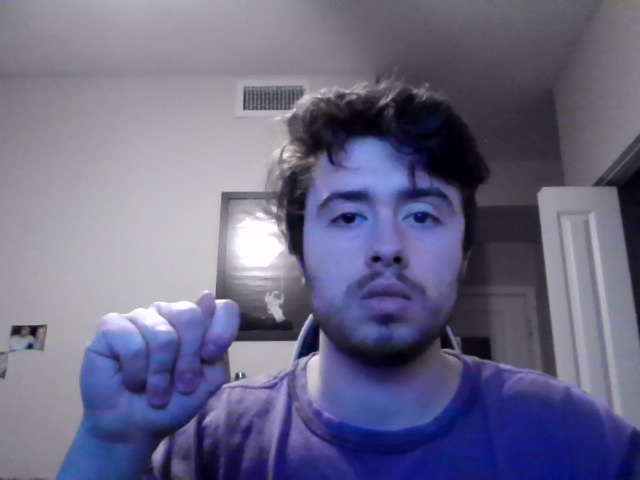t: (79, 290, 241, 454)
